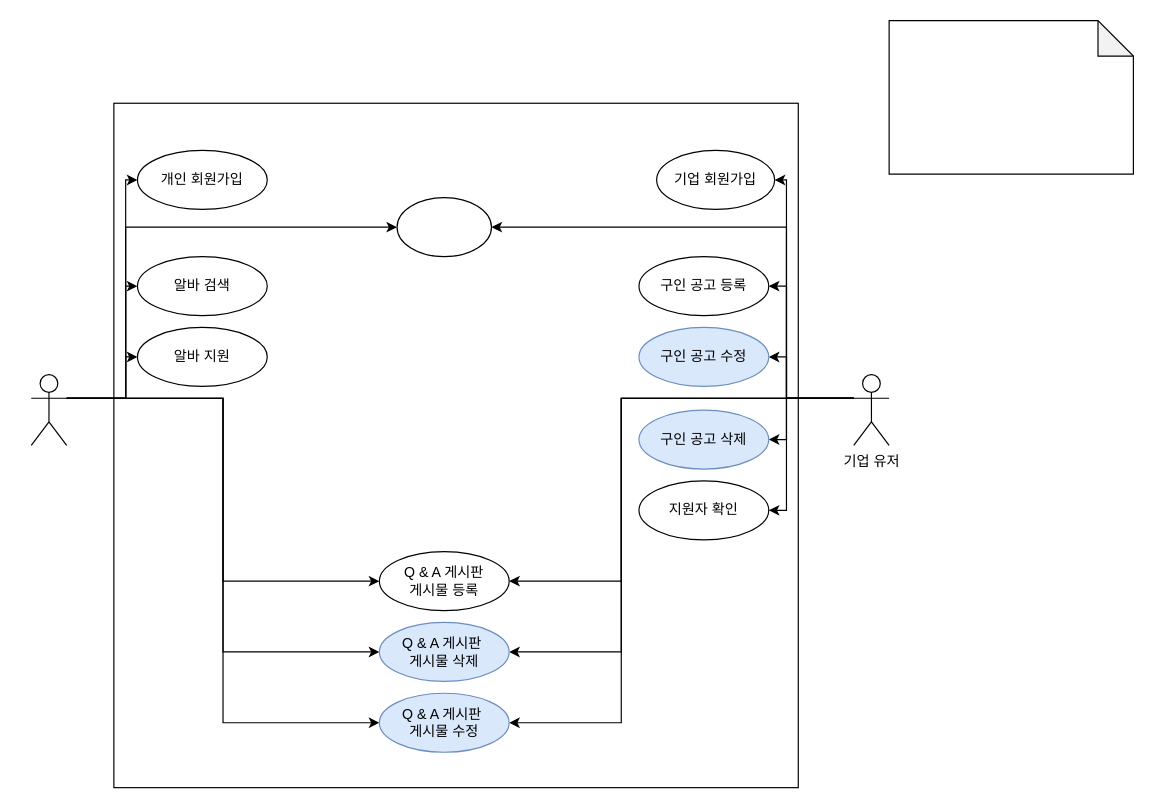
The diagram is 1154 pixels wide and 808 high, and some of its shapes have lost their labels. The shapes that lost their labels are listed below. From the top down, each one's centre as x and y in pixels, then its label:
At [1010,96]: "파란색 - 임의로 추가한 것".
At [443,226]: "로그인".
At [48,409]: "개인 유저".
